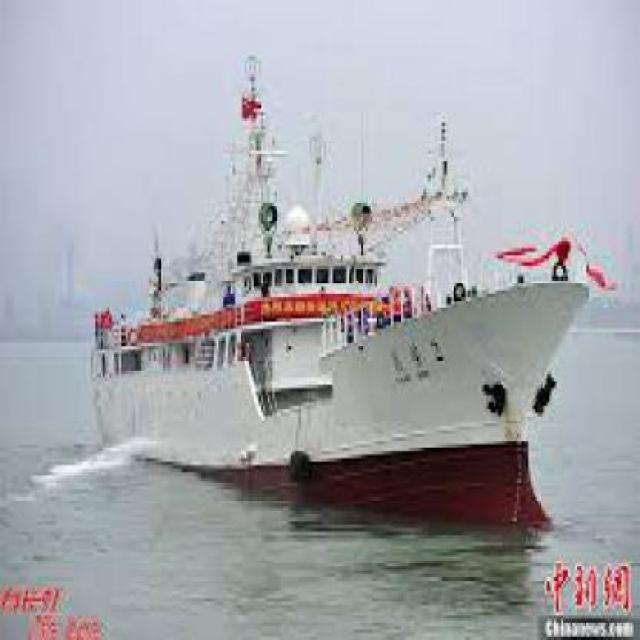fish-b: (75, 33, 613, 554)
